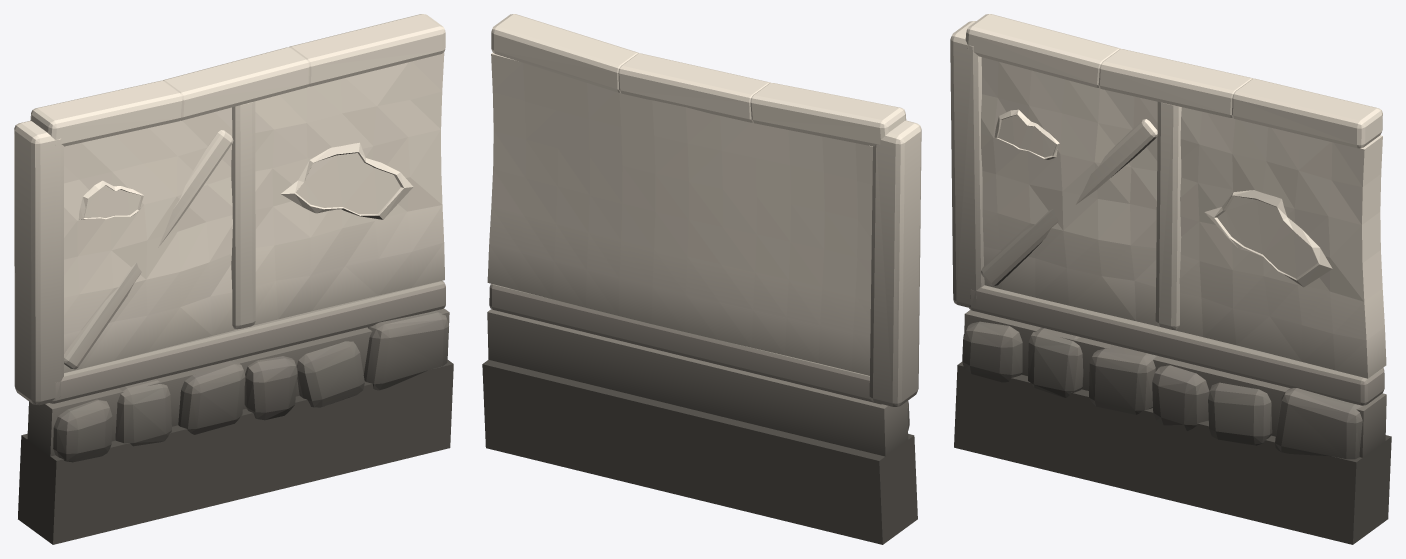
File: SM_VK_Wall_Wattle.fbx
The picture shows the model from 3 angles, left to right: view 1: azimuth 30°, elevation 25°; view 2: azimuth 150°, elevation 25°; view 3: azimuth 330°, elevation 25°; orthographic projection.
Parts seen in each view (by area): view 1: SM_VK_Wall_Wattle.001; view 2: SM_VK_Wall_Wattle.001; view 3: SM_VK_Wall_Wattle.001.
Boxes of the visible parts, <box> form: SM_VK_Wall_Wattle.001: <box>14,14,453,544</box>; SM_VK_Wall_Wattle.001: <box>482,14,921,544</box>; SM_VK_Wall_Wattle.001: <box>950,14,1391,544</box>.
Size of the model in its own units: 3.13 by 3 by 0.5171.
